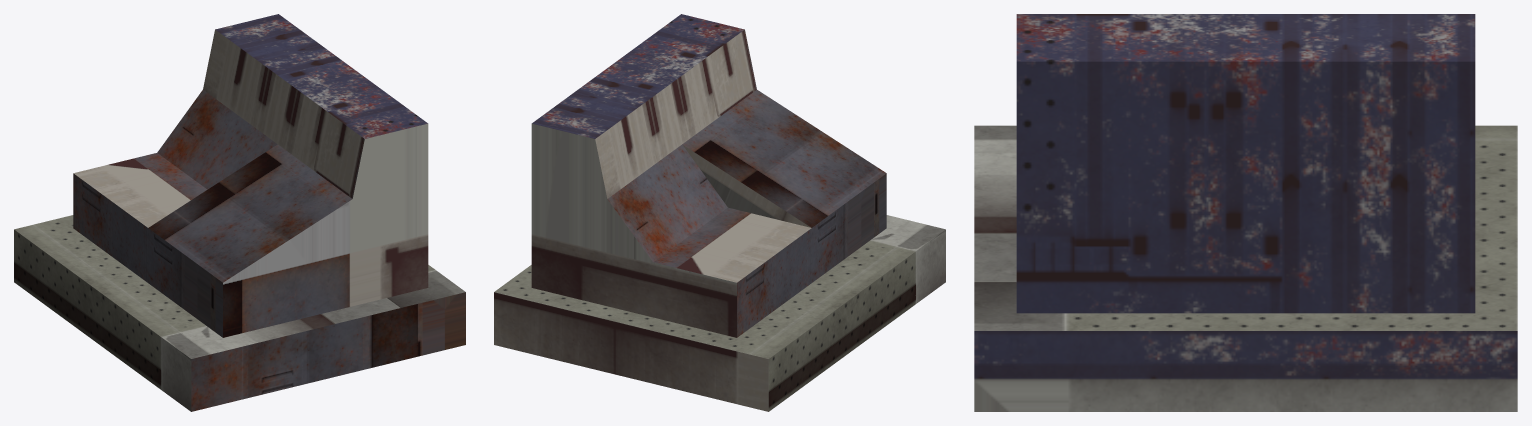
File: CashRegister.fbx
The picture shows the model from 3 angles, left to right: view 1: azimuth 30°, elevation 25°; view 2: azimuth 150°, elevation 25°; view 3: azimuth 270°, elevation 25°; orthographic projection. The views are drawn at different scales.
Parts seen in each view (by area): view 1: CashRegister; view 2: CashRegister; view 3: CashRegister.
Part boxes in pixels (bbox=[...]): CashRegister: bbox=[14, 14, 465, 411]; CashRegister: bbox=[494, 14, 945, 411]; CashRegister: bbox=[974, 14, 1517, 411].
Bounding box in the file's own units: 64.2 × 48.49 × 71.75.
